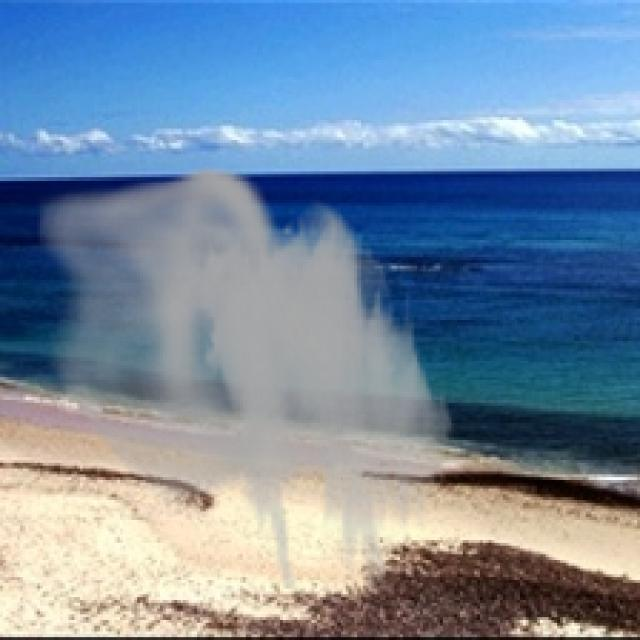Smoke: (37, 166, 457, 588)
